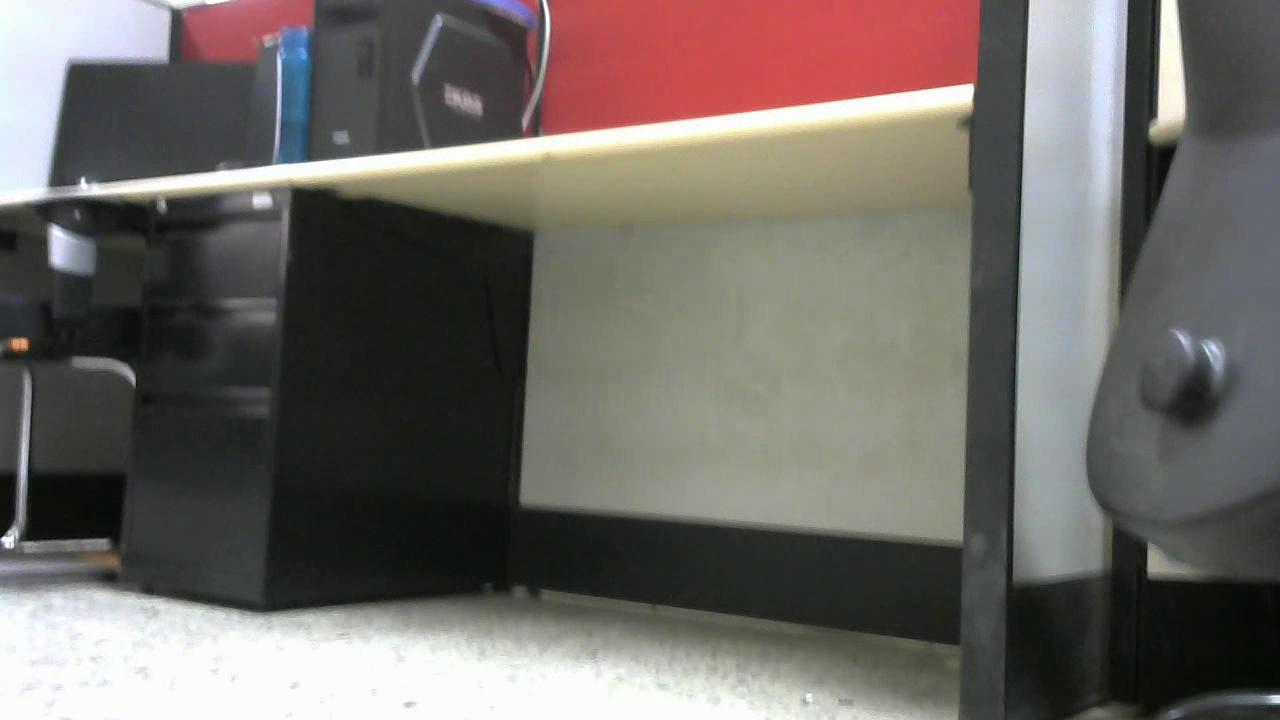chair: (1, 198, 159, 595)
